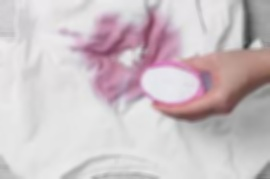ink: (86, 17, 135, 52), (91, 68, 138, 98), (147, 11, 178, 54)
